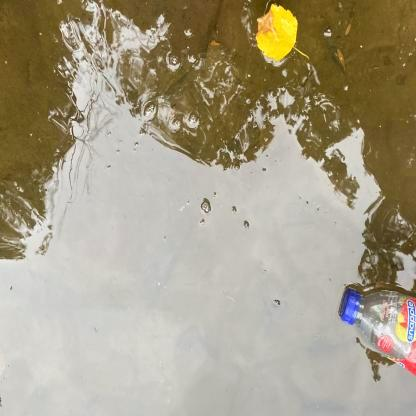Plastic: (335, 278, 416, 382)
